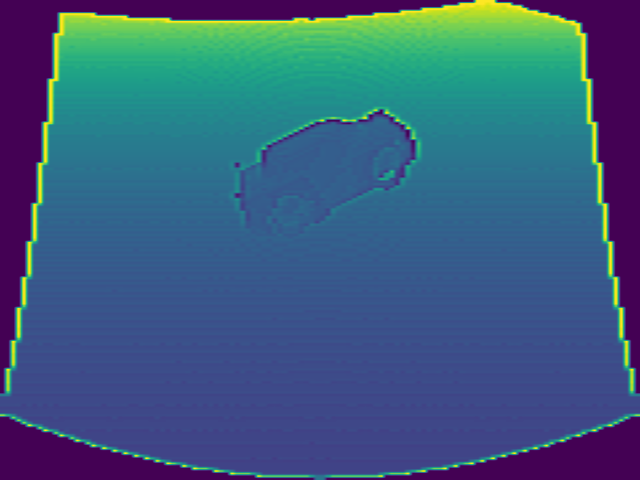car_0027: (234, 107, 421, 231)
